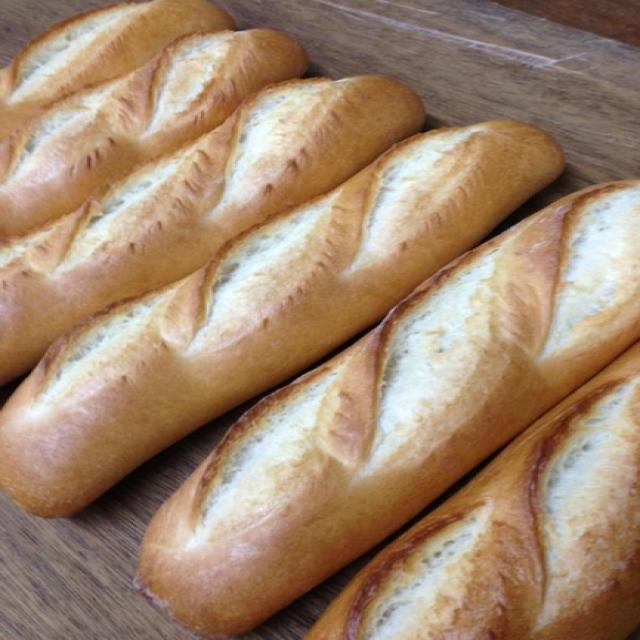Bread: (1, 6, 638, 640)
